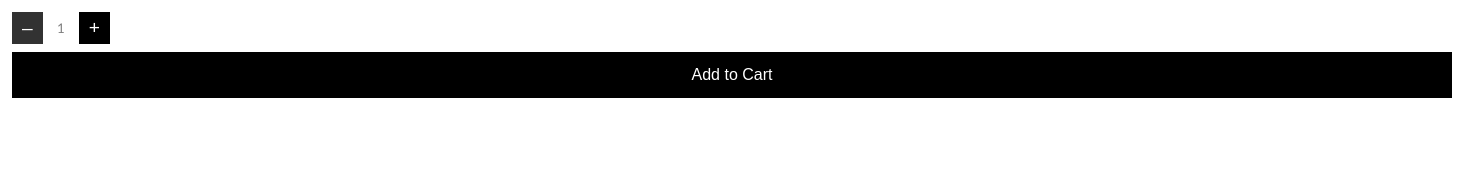
Test: Product Quantity Selector test › Increment button adds one to the input number value
Click the button with test id "product-quantity__increment-btn".
click(94, 28)  # box [79, 12, 110, 44]
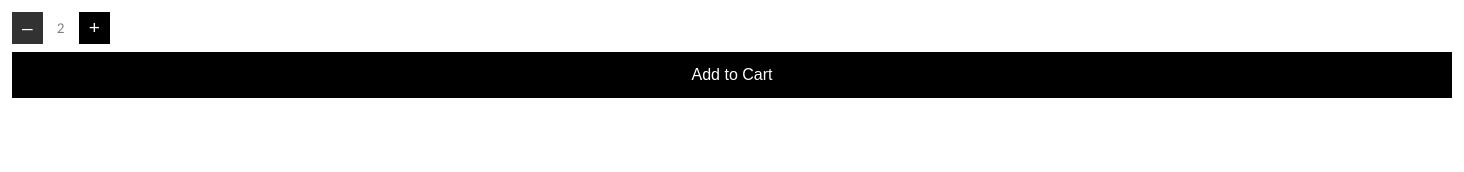
Check: the number field with test id "product-quantity__number-input" holds "2", box [45, 12, 77, 44]
